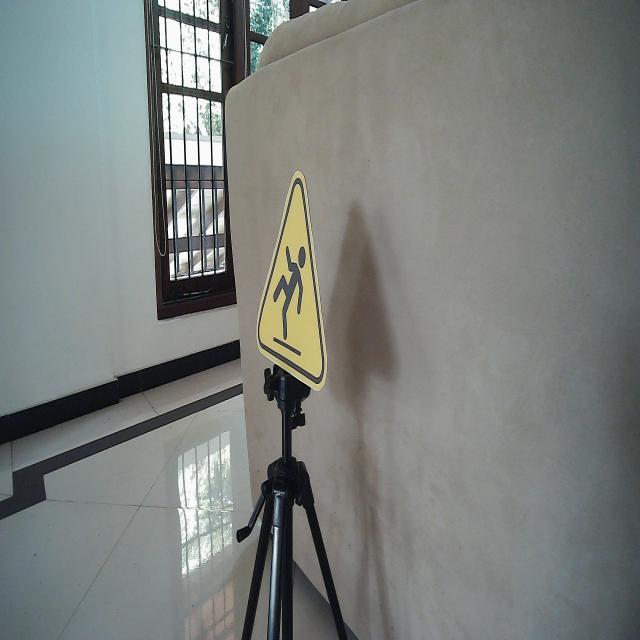slippery_sign: (256, 168, 330, 394)
